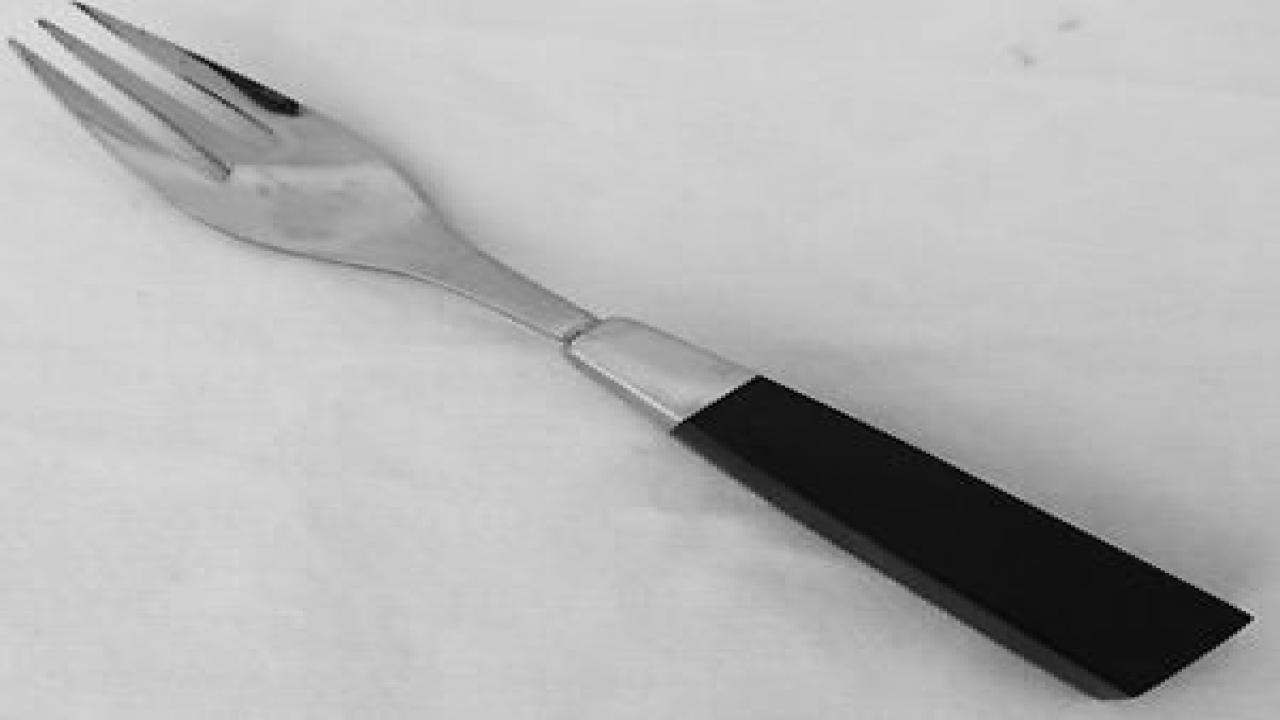fork: (0, 0, 1254, 699)
